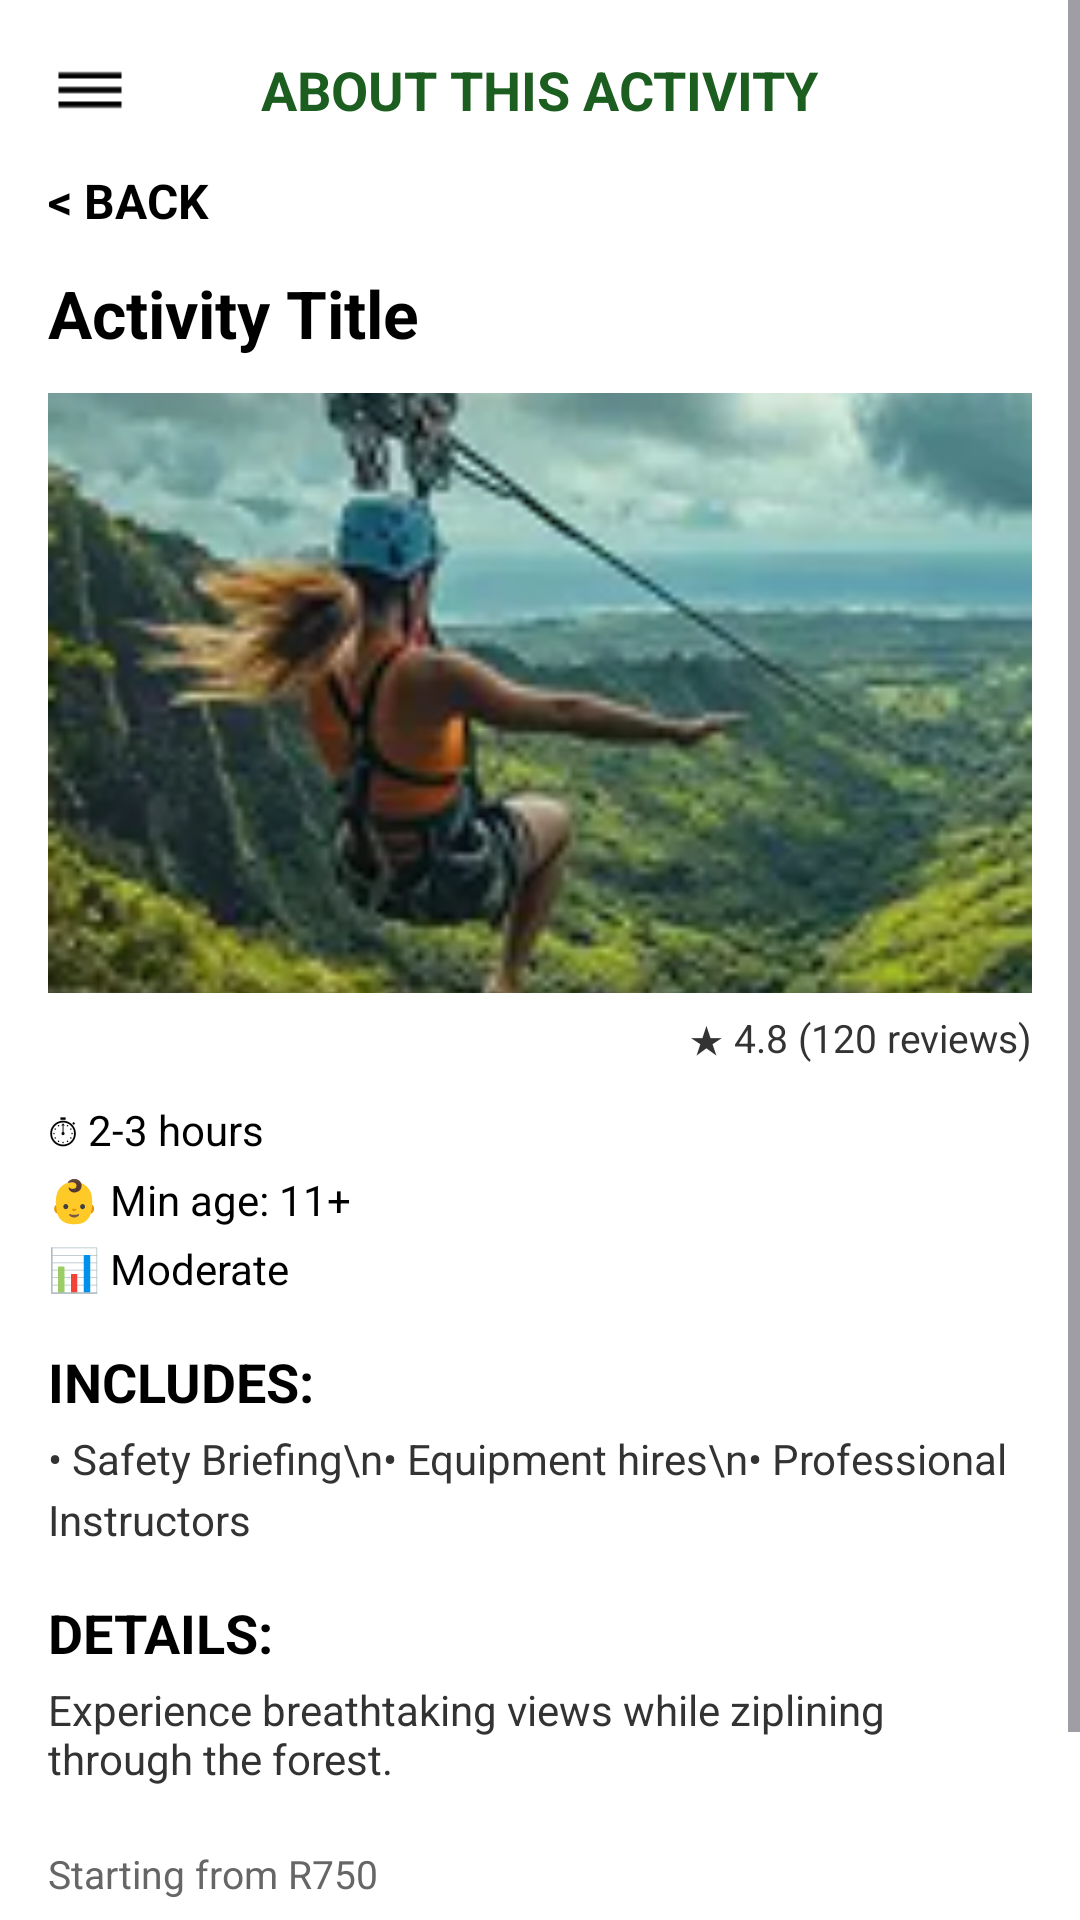

Named icons in this screenshot (1080px x 1920px) and their centers, (x=x, y=y):
Menu: (x=90, y=90)
